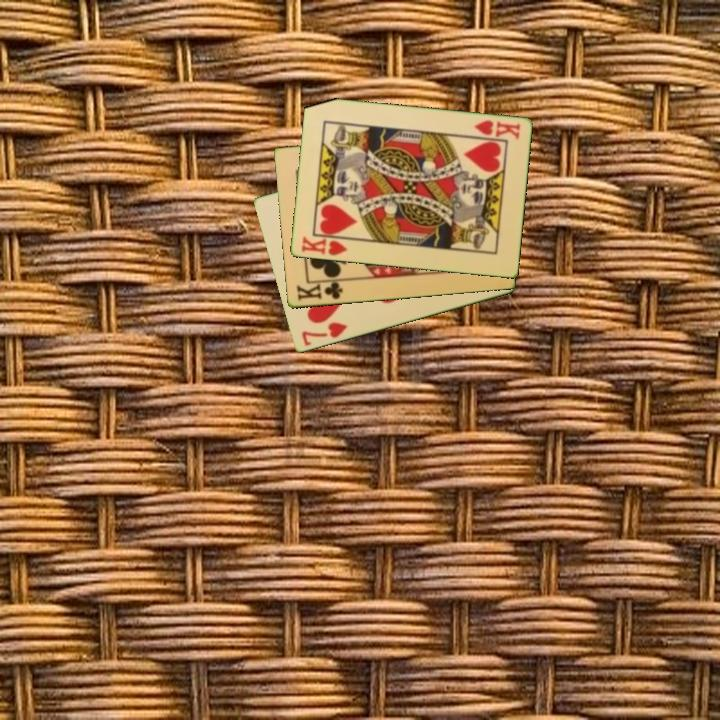7h: (298, 319, 350, 349)
Kc: (293, 277, 348, 304)
Kh: (298, 232, 353, 259), (470, 117, 523, 143)
